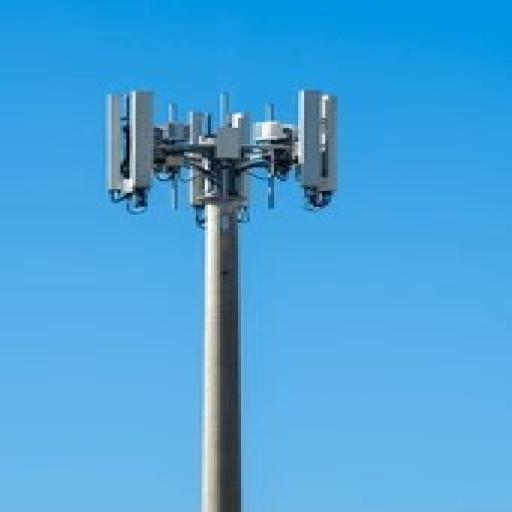monopole_tower: (105, 82, 340, 512)
